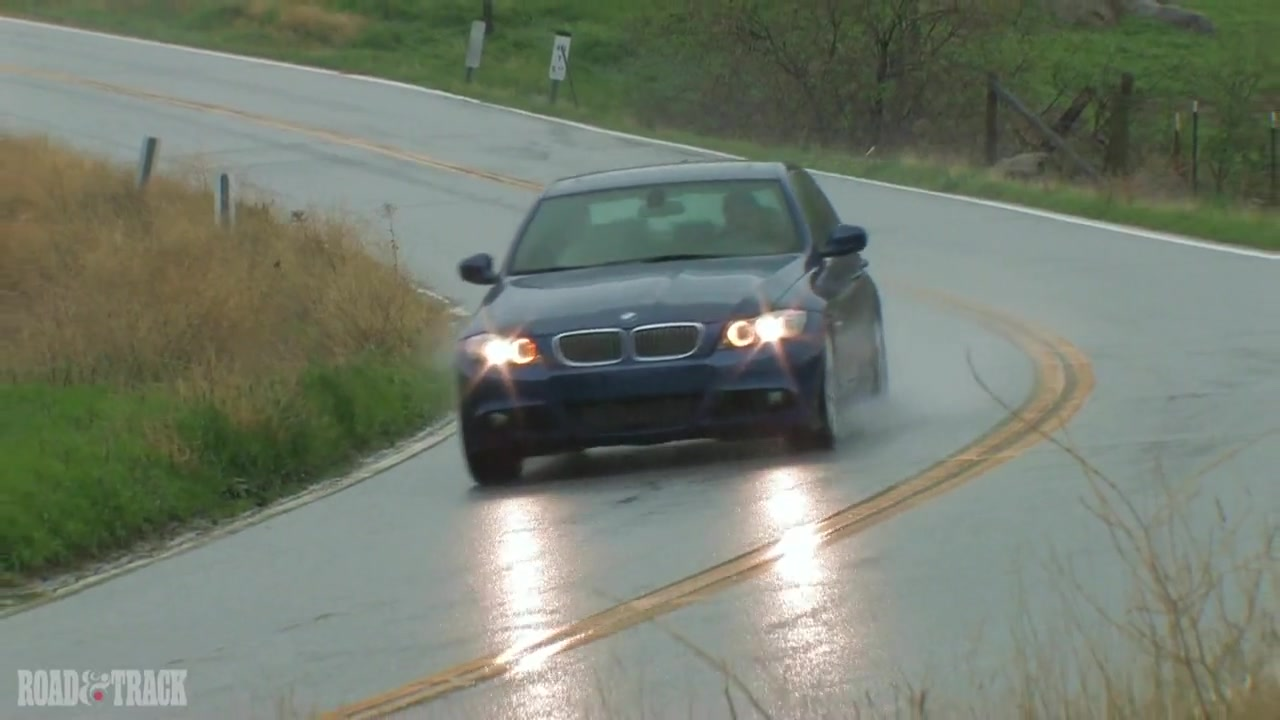car: (452, 160, 894, 492)
